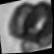correct: (3, 0, 54, 54)
